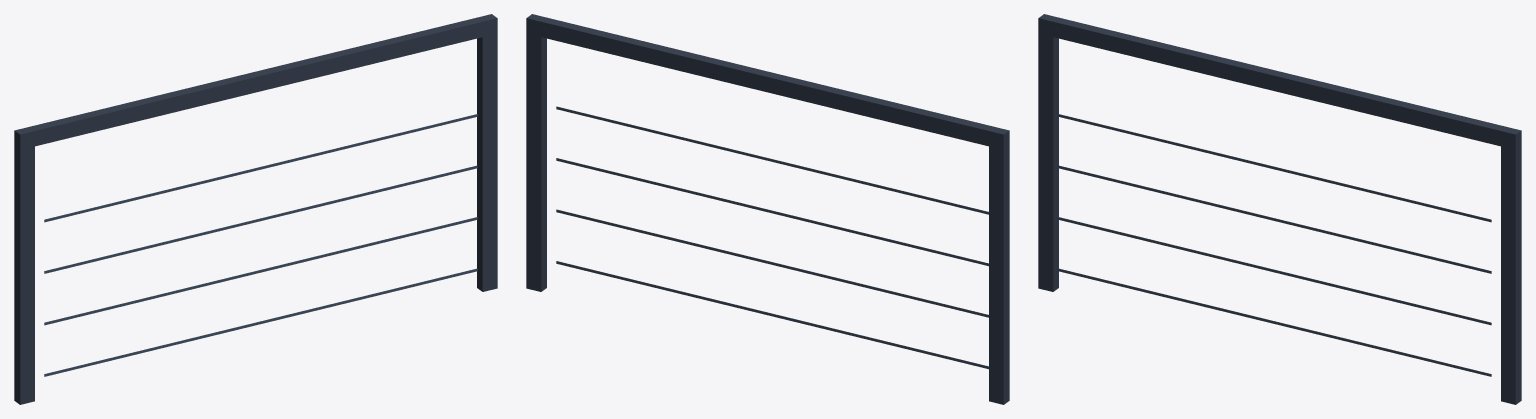
Rendered from dock-door-frame-authored-atlas.glb.
3 renders of one model, left to right at view 1: azimuth 30°, elevation 25°; view 2: azimuth 150°, elevation 25°; view 3: azimuth 330°, elevation 25°, orthographic.
Visible parts, largest first — view 1: Authored surface.041; view 2: Authored surface.041; view 3: Authored surface.041.
Part boxes in pixels (left/top/right/bottom): Authored surface.041: left=14, top=14, right=497, bottom=404; Authored surface.041: left=526, top=14, right=1009, bottom=404; Authored surface.041: left=1038, top=14, right=1521, bottom=404.
Size of the model in its own units: 9.7 by 5.25 by 0.285.
Materials: 1 (1 with a texture image).
